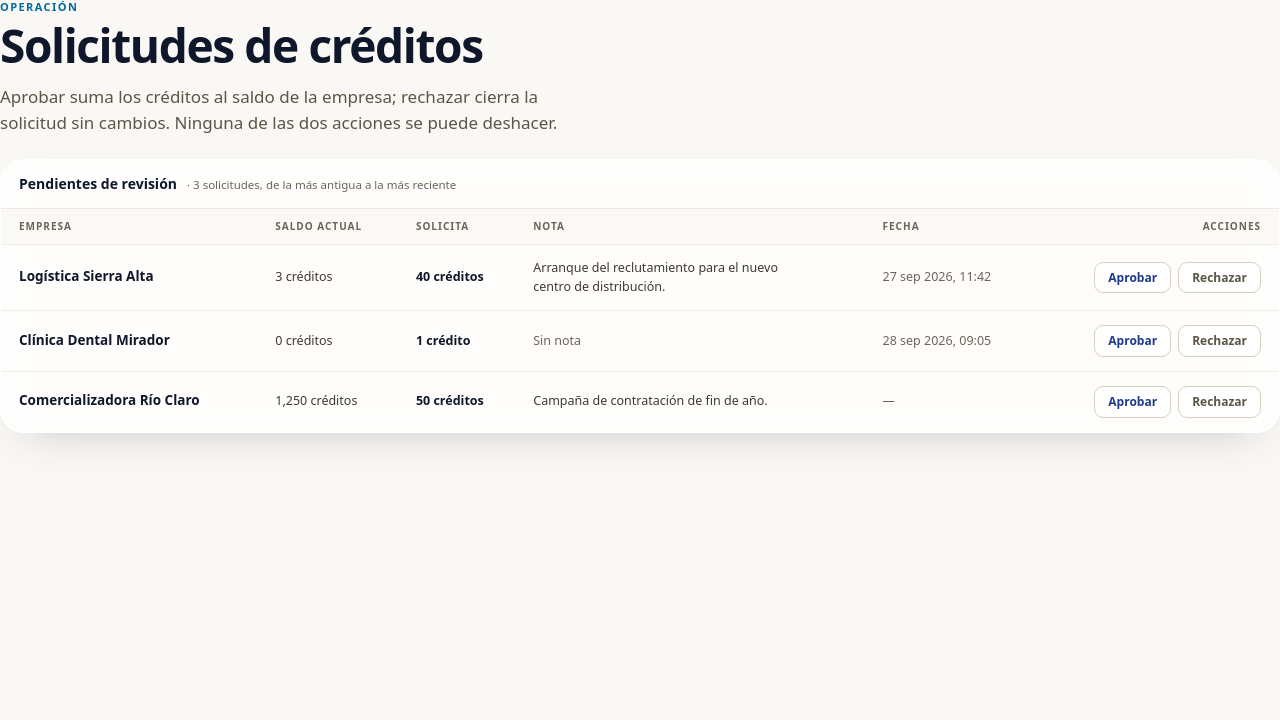
Test case: AdminCreditosPage › al confirmar, aprueba, avisa con un toast, quita la fila y lleva el foco a la siguiente
The image size is (1280, 720).
Click the button "Aprobar" in the row of "Logística Sierra Alta": (1133, 278) 1094,262 -> 1171,294
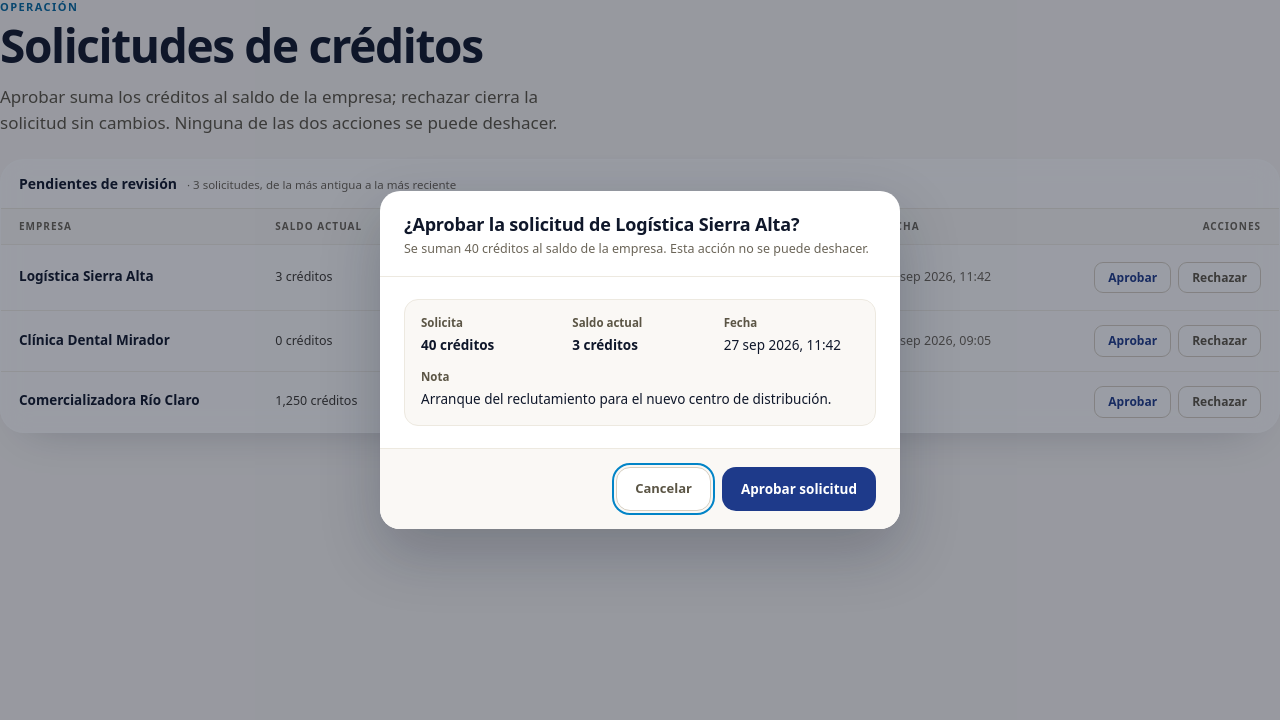
Click the button "Aprobar solicitud": (799, 489) 722,467 -> 876,511
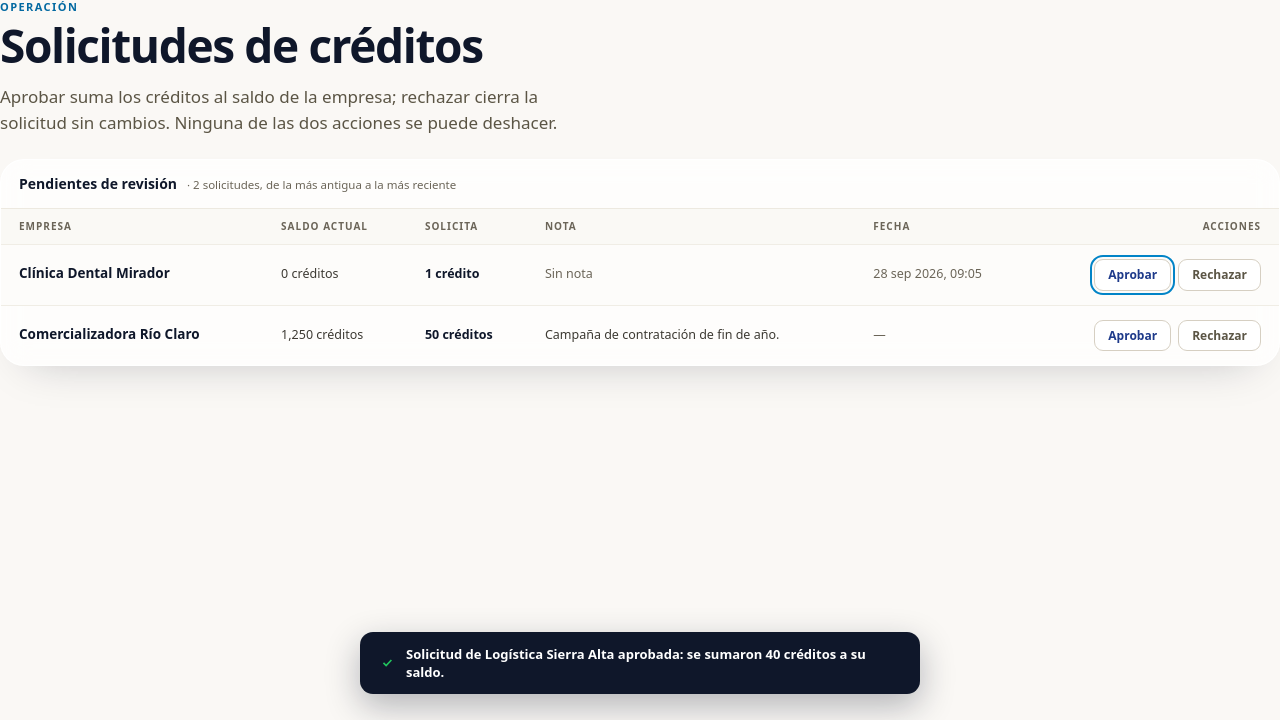
Expected: the text "Solicitud de Logística Sierra Alta aprobada: se sumaron 40 créditos a su saldo." is shown, 406,645 -> 900,681
Expected: the dialog is gone
